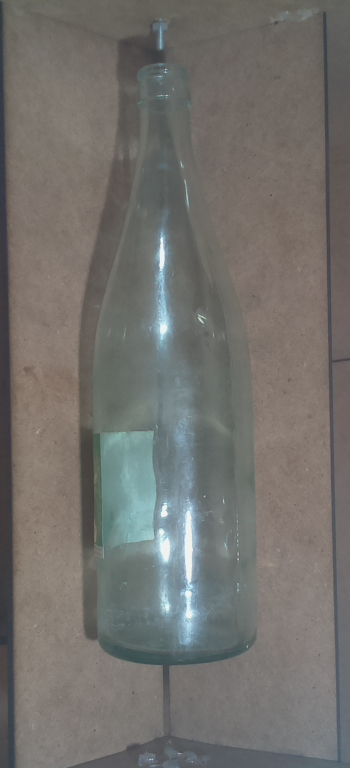Glass: (83, 52, 266, 670)
